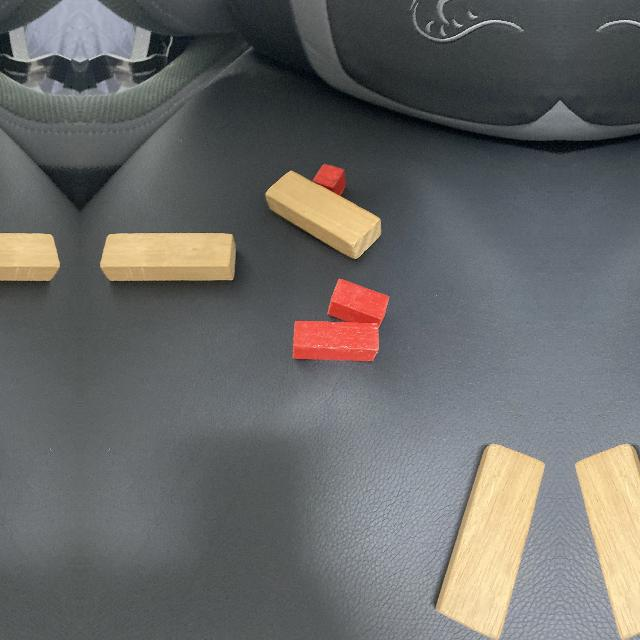jenga: (435, 444, 545, 640), (575, 444, 640, 640), (266, 170, 382, 260), (100, 233, 236, 281), (0, 233, 60, 281)
red block: (292, 321, 380, 362), (327, 279, 390, 327)
red cube: (313, 164, 346, 198)
